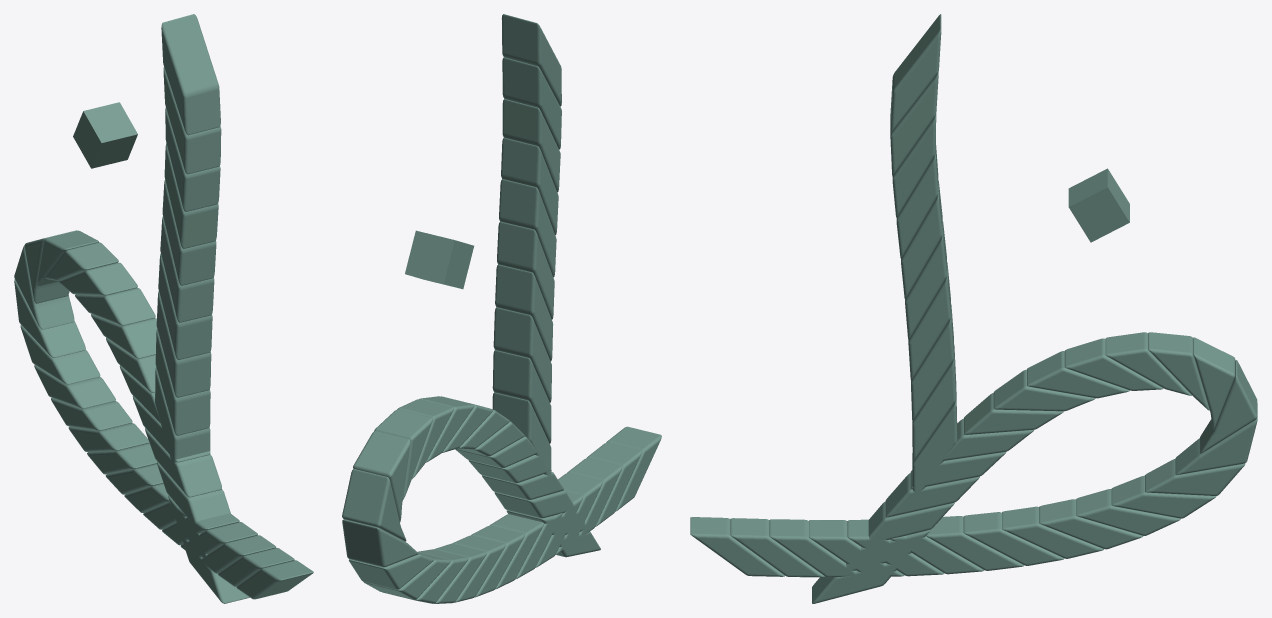
Rendered from dha.fbx.
3 renders of one model, left to right at view 1: azimuth 30°, elevation 25°; view 2: azimuth 150°, elevation 25°; view 3: azimuth 270°, elevation 25°, orthographic. The views are drawn at different scales.
Parts seen in each view (by area): view 1: Cube, Cube.001, Cube.002; view 2: Cube, Cube.001, Cube.002; view 3: Cube, Cube.001, Cube.002.
Part boxes in pixels (left/top/right/bottom): Cube: left=14, top=230, right=313, bottom=603; Cube.001: left=155, top=14, right=221, bottom=463; Cube.002: left=73, top=102, right=137, bottom=168; Cube: left=342, top=396, right=661, bottom=603; Cube.001: left=492, top=14, right=561, bottom=475; Cube.002: left=405, top=230, right=474, bottom=289; Cube: left=690, top=332, right=1257, bottom=603; Cube.001: left=890, top=14, right=957, bottom=497; Cube.002: left=1068, top=168, right=1129, bottom=242.
Size of the model in its own units: 63.3 by 847 by 759.
